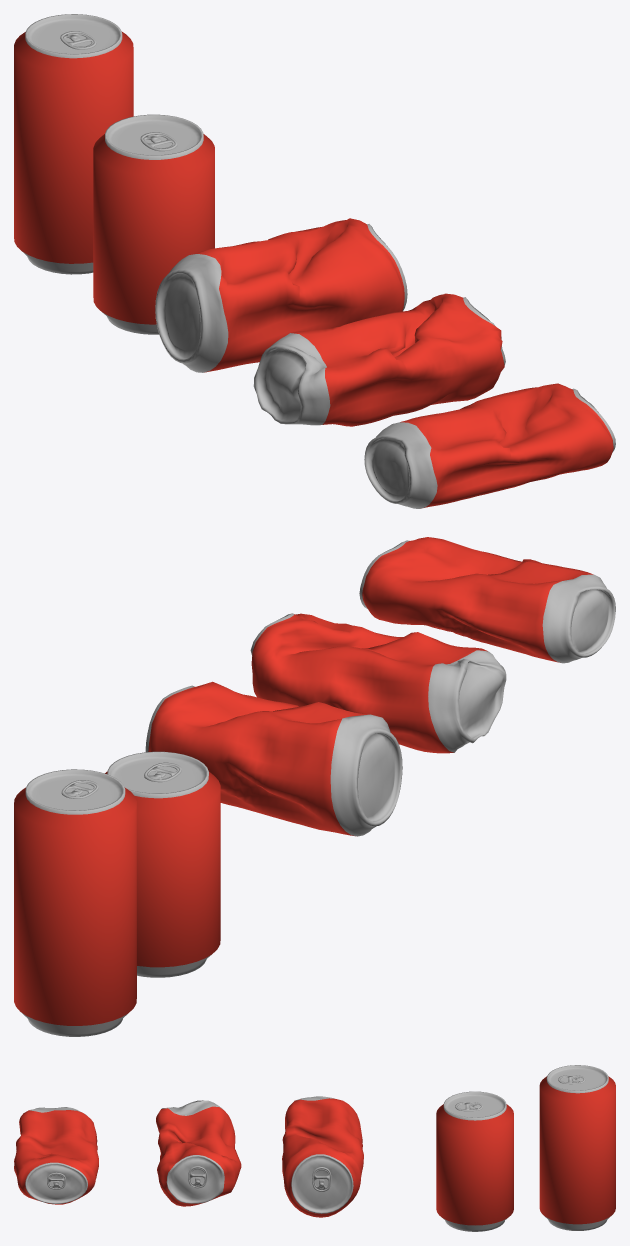
The model's file is Blikjes Collectie.fbx.
The picture shows the model from 3 angles, top to bottom: view 1: azimuth 30°, elevation 25°; view 2: azimuth 150°, elevation 25°; view 3: azimuth 270°, elevation 25°; orthographic projection. The views are drawn at different scales.
Visible parts, largest first — view 1: Blikje Small Damage, Blikje Large, Blikje MediumDamage, Blikje Small, Blikje Large Damage; view 2: Blikje Large, Blikje Small Damage, Blikje MediumDamage, Blikje Large Damage, Blikje Small; view 3: Blikje Large, Blikje Small, Blikje Small Damage, Blikje MediumDamage, Blikje Large Damage.
Boxes of the visible parts, box(x1,y1,x2,y2) form: Blikje Small Damage: box(155, 218, 407, 372); Blikje Large: box(14, 14, 133, 274); Blikje MediumDamage: box(253, 293, 505, 426); Blikje Small: box(93, 114, 214, 334); Blikje Large Damage: box(364, 383, 615, 508); Blikje Large: box(14, 769, 136, 1036); Blikje Small Damage: box(145, 681, 402, 836); Blikje MediumDamage: box(250, 613, 506, 753); Blikje Large Damage: box(359, 537, 615, 663); Blikje Small: box(105, 751, 220, 977); Blikje Large: box(539, 1065, 615, 1230); Blikje Small: box(436, 1091, 513, 1231); Blikje Small Damage: box(282, 1096, 363, 1217); Blikje MediumDamage: box(156, 1100, 241, 1206); Blikje Large Damage: box(14, 1107, 98, 1204).
Size of the model in its own units: 11.23 by 11.2 by 43.32.
